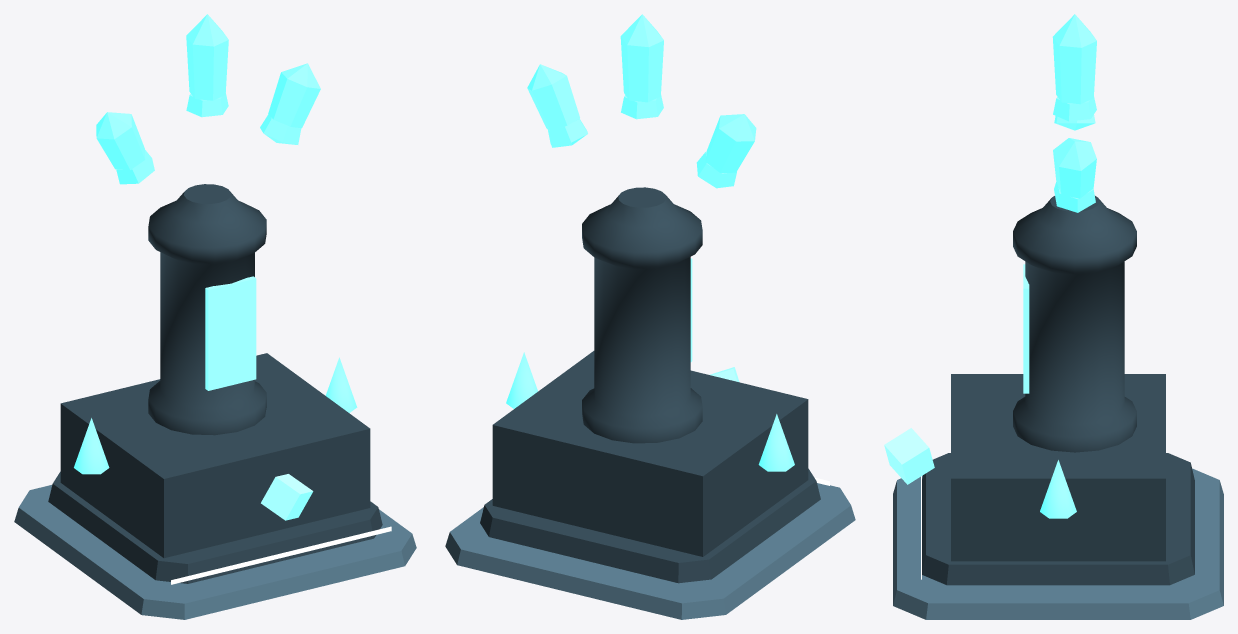
Rendered from CryoReactorDropper_Roblox.fbx.
3 renders of one model, left to right at view 1: azimuth 30°, elevation 25°; view 2: azimuth 150°, elevation 25°; view 3: azimuth 270°, elevation 25°, orthographic. The views are drawn at different scales.
Visible parts, largest first — view 1: DarkPlate, SteelPlate, Crystal, CoreGlow, Ore, AccentNeon; view 2: DarkPlate, SteelPlate, Crystal; view 3: DarkPlate, SteelPlate, Crystal, Ore, CoreGlow.
Part boxes in pixels (x1,y1,x2,y2): DarkPlate: (48,184,382,583); SteelPlate: (14,485,416,619); Crystal: (74,14,357,474); CoreGlow: (205,276,256,390); Ore: (261,474,313,520); AccentNeon: (171,526,391,584); DarkPlate: (480,187,820,583); SteelPlate: (445,483,855,619); Crystal: (506,14,794,471); DarkPlate: (922,196,1194,585); SteelPlate: (893,468,1223,619); Crystal: (1040,14,1096,518); Ore: (884,428,934,484); CoreGlow: (1023,264,1029,393).
Size of the model in its own units: 800 by 1520 by 821.
